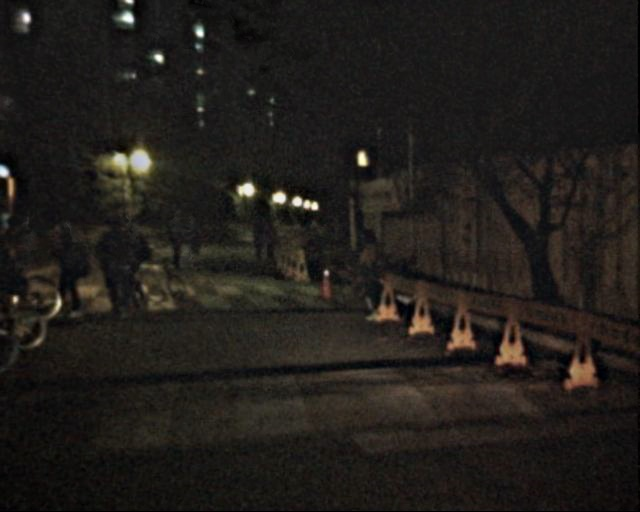person: (1, 208, 45, 315), (53, 217, 93, 314), (111, 210, 149, 303), (350, 228, 388, 321), (100, 220, 137, 310), (164, 213, 187, 269), (181, 216, 203, 270), (257, 218, 275, 263), (246, 221, 264, 265)
